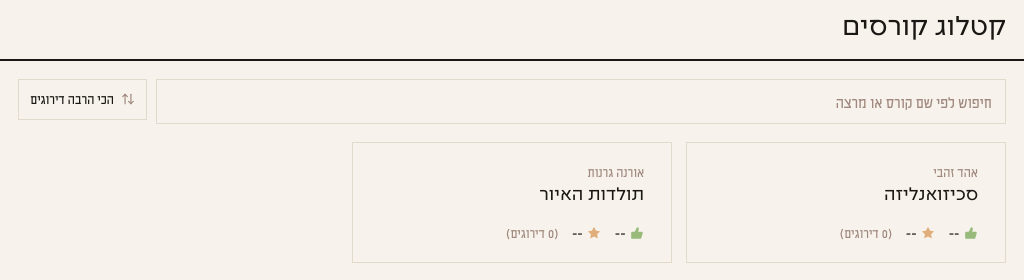
Scenario: CatalogList › filters courses by name as the user types
Type "איור" into the search field with placeholder "חיפוש לפי שם קורס או מרצה" at (581, 102), box [156,79,1006,124]
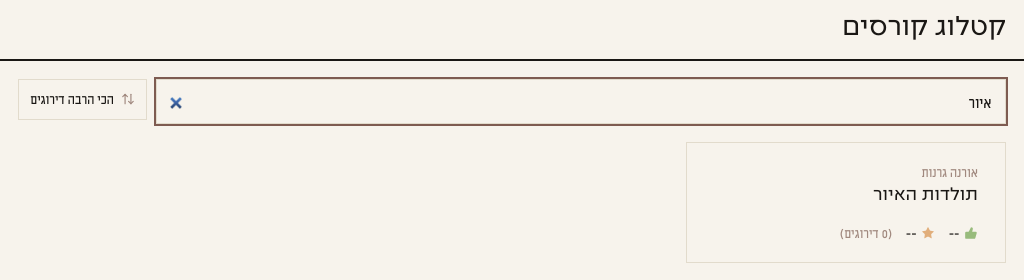
Expected: the text "תולדות האיור" is shown, [873,187,978,203]
Result: the link "סכיזואנליזה" is gone
